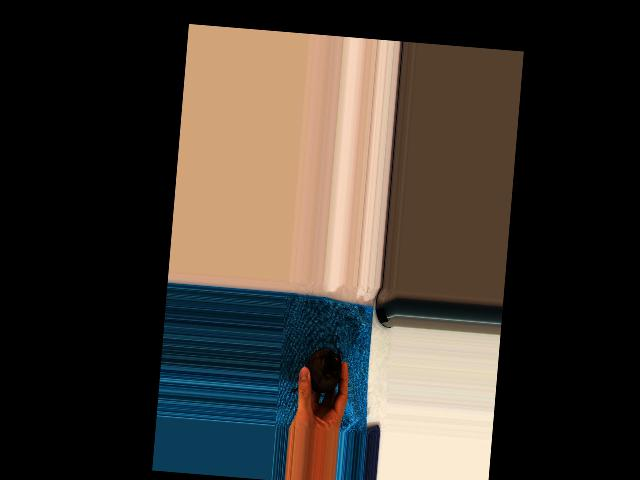beet: (289, 331, 343, 396)
